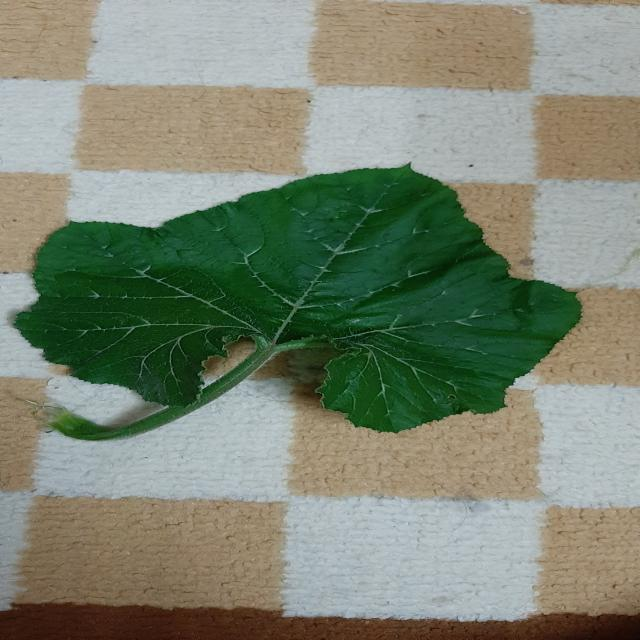pumpkin: (16, 166, 580, 441), (534, 385, 639, 508)
